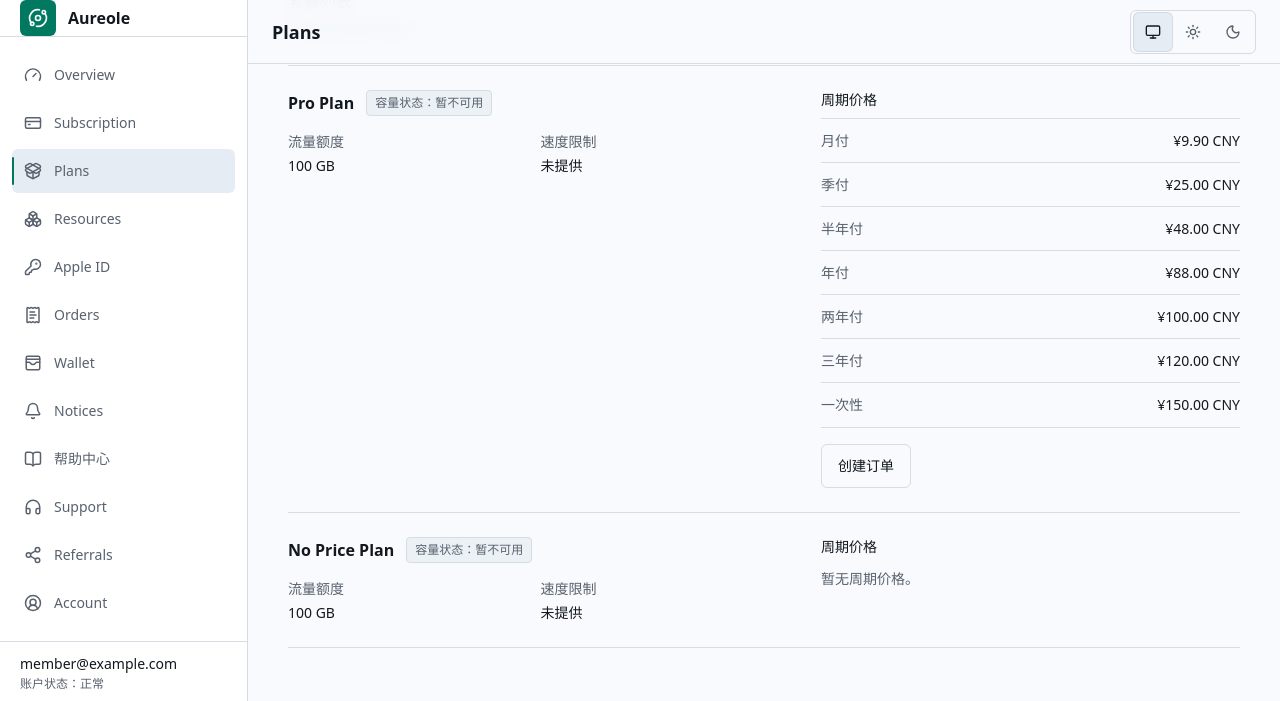
Order Create flow › keeps Plans available for PRODUCT_NOT_FOUND and ordinary Detail retry
The image size is (1280, 701).
(page scrolled)
Click the button "创建订单": (866, 466) [821,444,911,488]
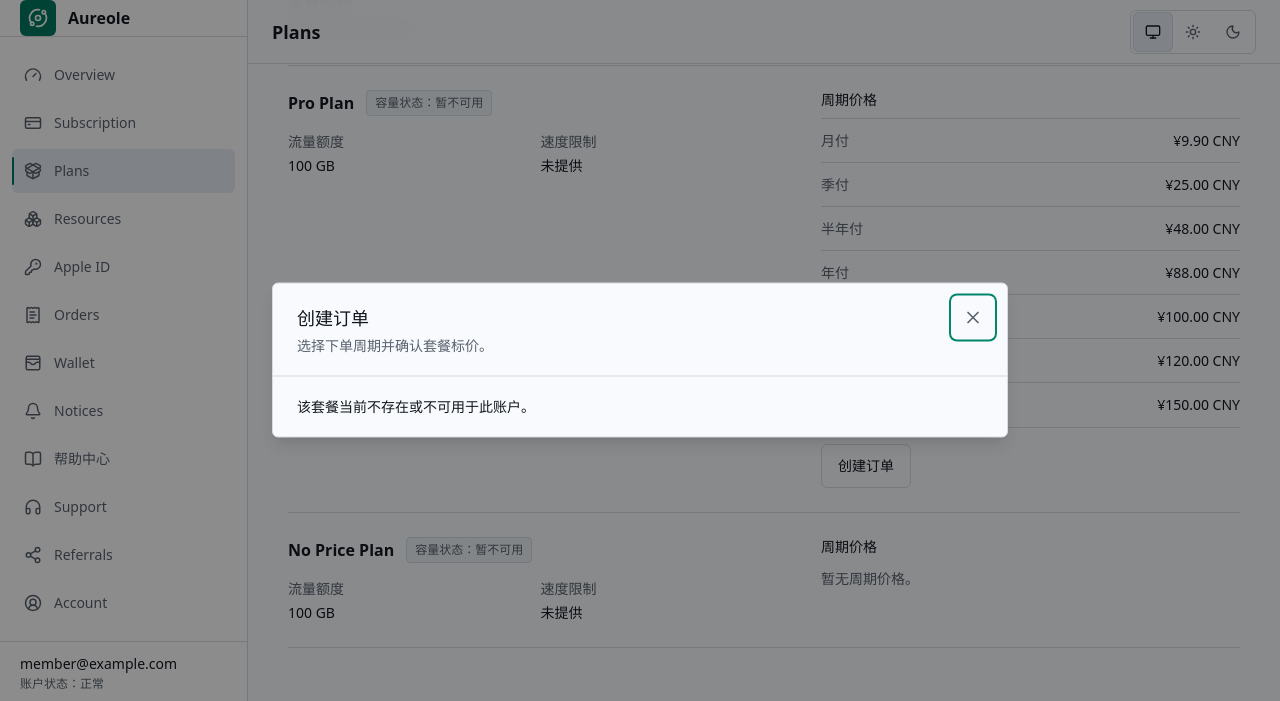
Check: the heading "No Price Plan" is shown, box [288,538,394,562]
Check: the text "该套餐当前不存在或不可用于此账户。" is shown, box [297,396,535,416]
Click the button named "关闭创建订单": (973, 318) [951,296,995,340]
(page scrolled)
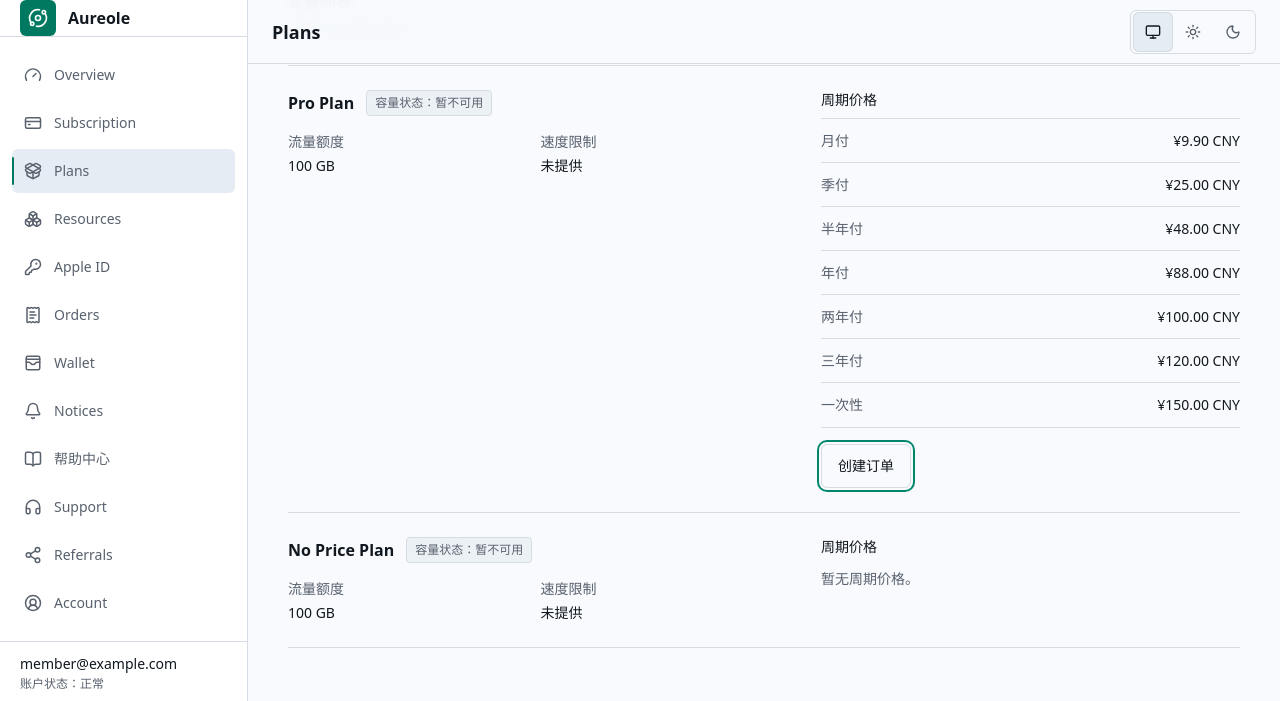
Click the button "创建订单": (866, 466) [821,444,911,488]
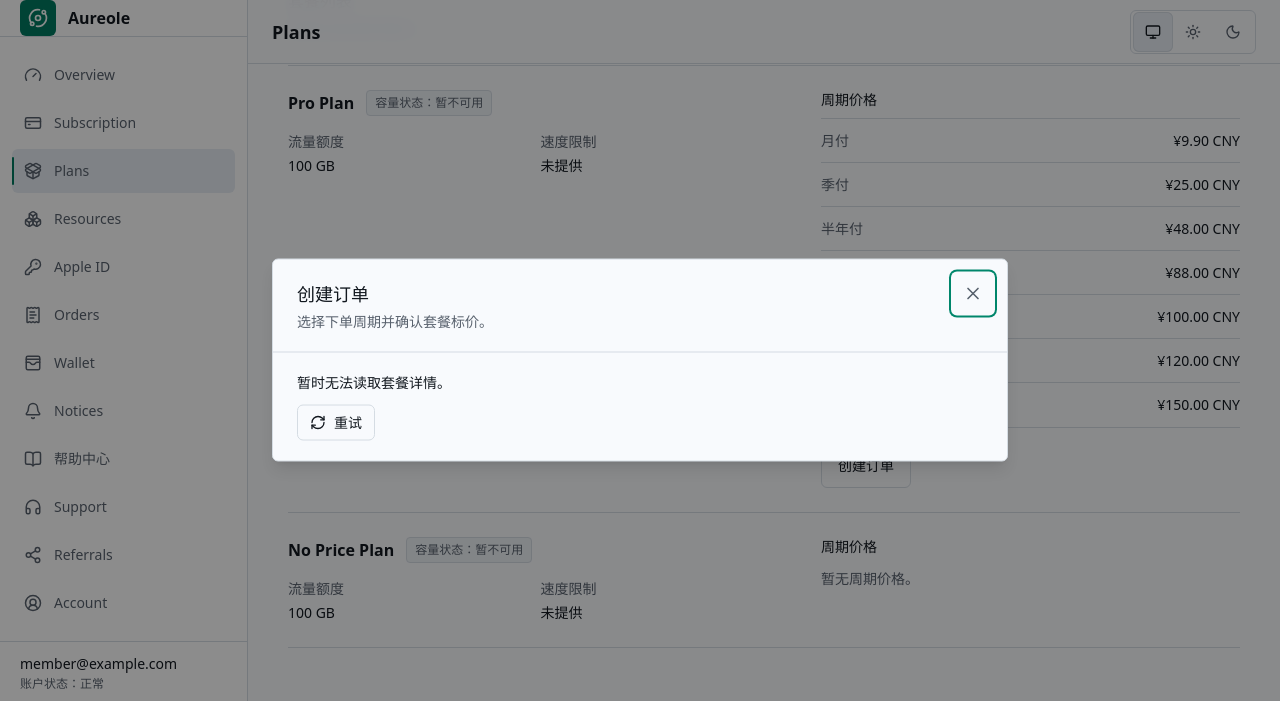
Check: the text "暂时无法读取套餐详情。" is shown, box [297,372,451,392]
Click the button "重试": (336, 422) [297,404,375,440]
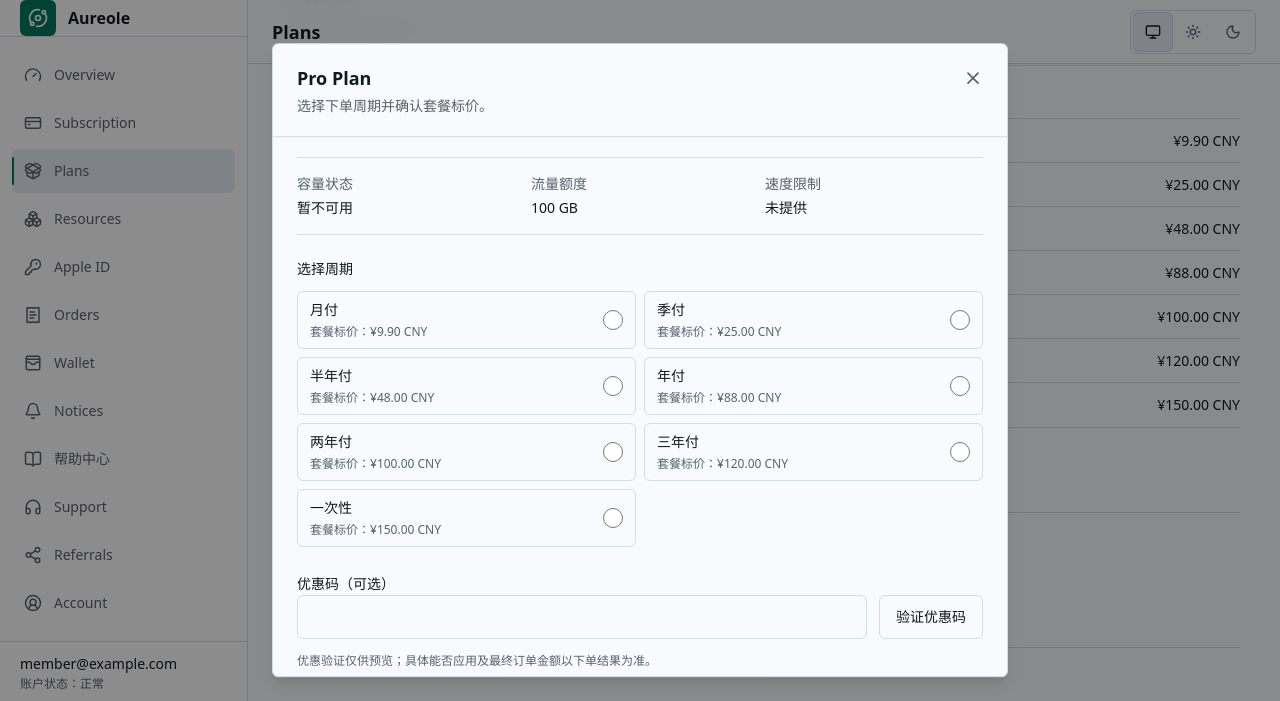
Check: the text "选择周期" is shown, box [297,259,353,279]
